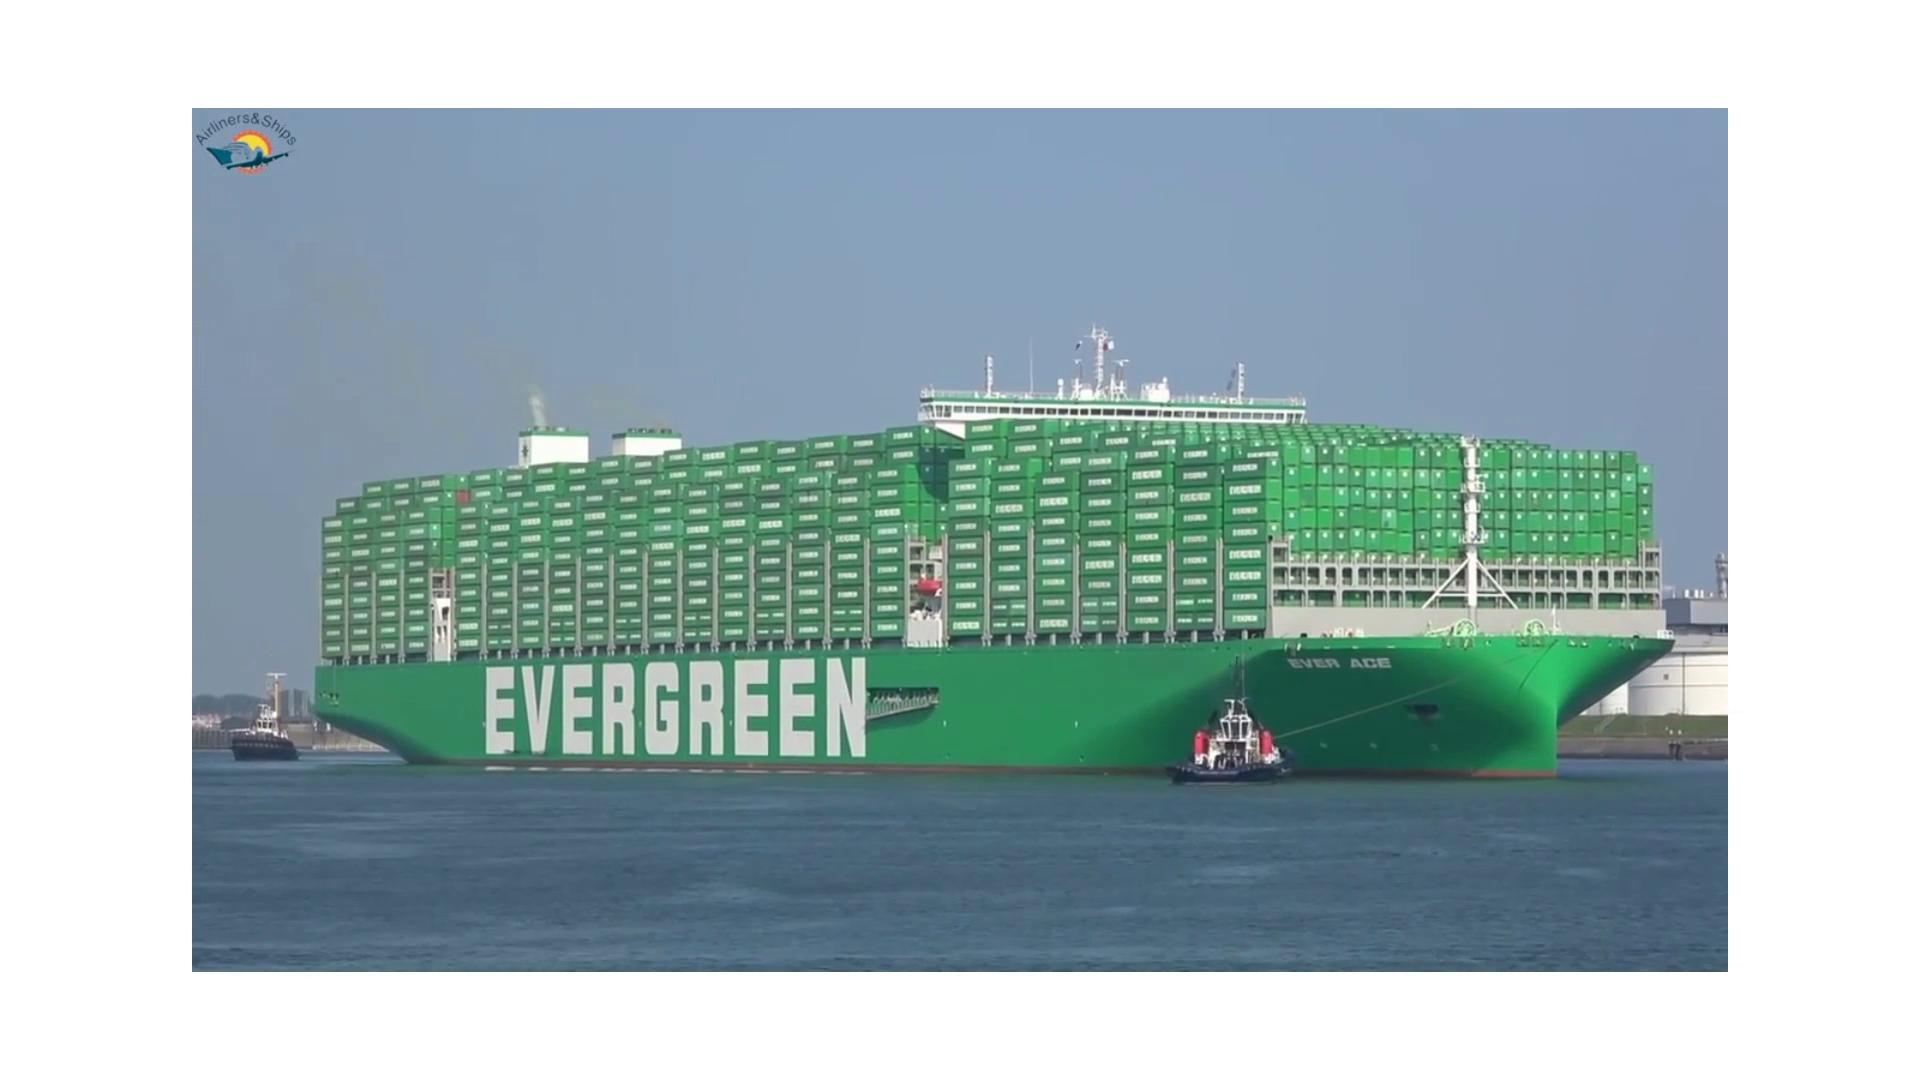OCR: (472, 651, 890, 785), (1278, 644, 1400, 688)
